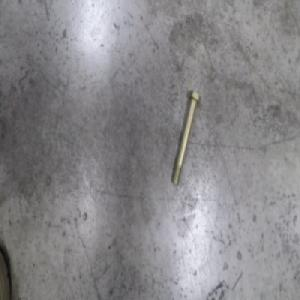Bolt: (170, 90, 201, 188)
